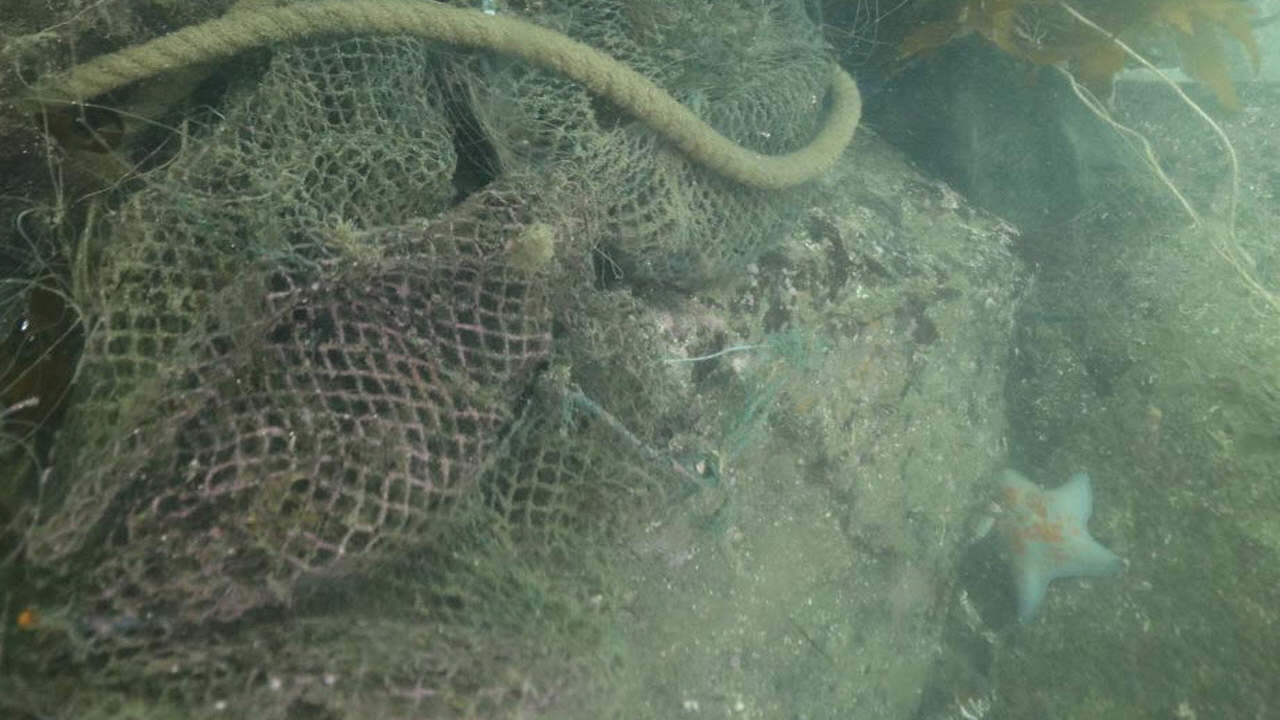fish net: (0, 0, 831, 720)
rope: (0, 0, 864, 189)
